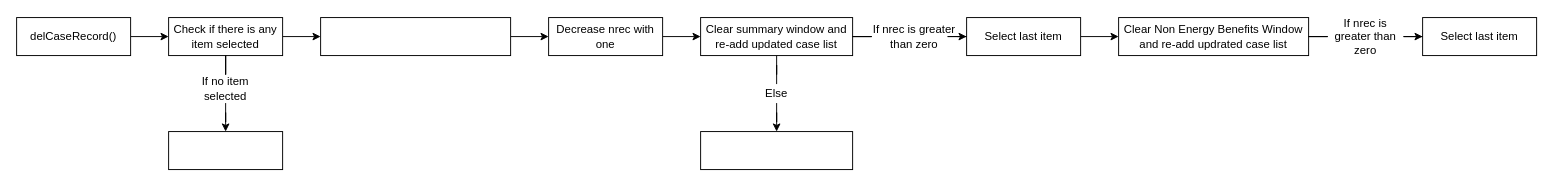
Image size: 1553x186. Some labels were removed from this diagram. Each missing label, with the centre of its shape:
"Do nothing and exit function" goes at pixel 225 150.
"Make labelpath (path above add-edit-del buttons) --" goes at pixel 776 150.
"Shift all records one back, that are coming after selected" goes at pixel 415 36.
